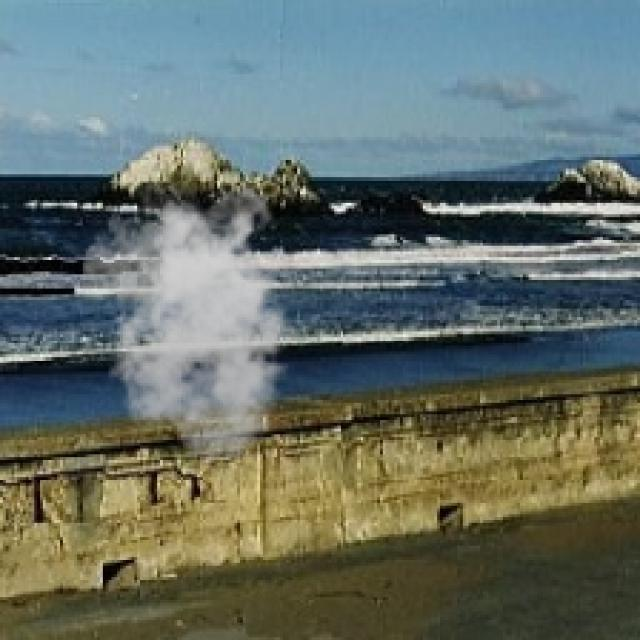Smoke: (82, 180, 312, 463)
